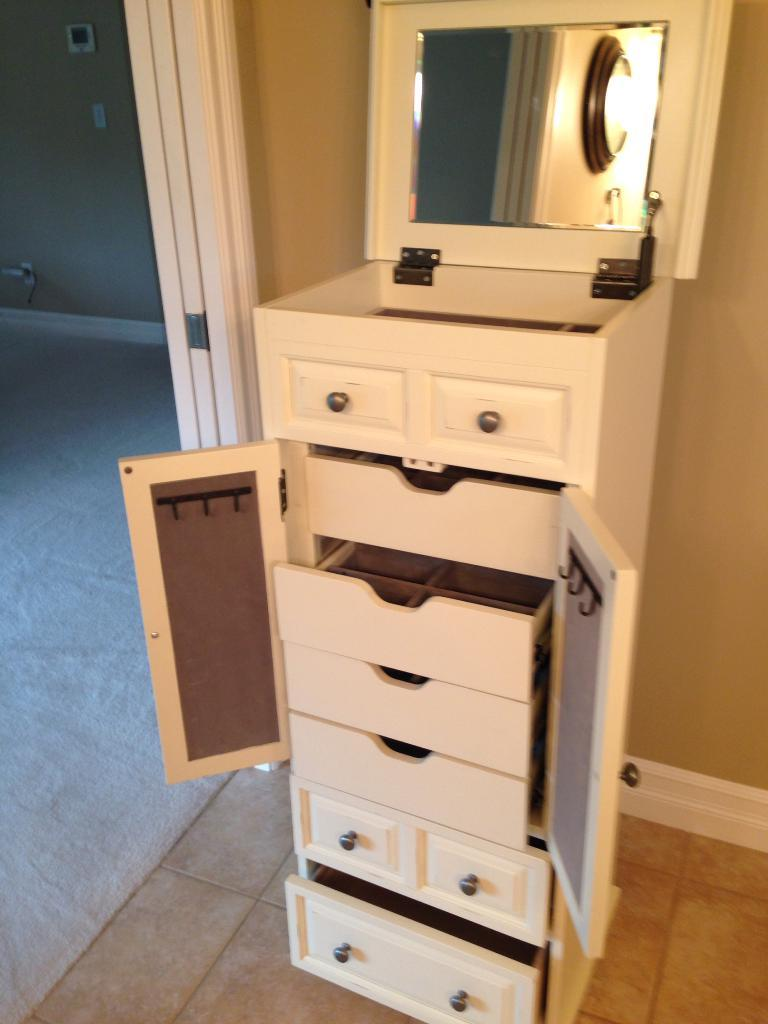cabinet_door: (130, 460, 286, 760), (295, 647, 520, 765), (288, 576, 522, 686), (299, 724, 520, 838), (314, 461, 560, 556), (568, 524, 622, 912), (306, 920, 512, 1021), (429, 381, 562, 461), (306, 795, 418, 885), (427, 839, 538, 926), (292, 364, 402, 437)
handle: (370, 650, 428, 696), (375, 726, 430, 772), (367, 579, 429, 613), (406, 476, 454, 506), (322, 384, 350, 418), (456, 868, 480, 898), (335, 940, 357, 971), (474, 404, 500, 428), (336, 826, 358, 852), (452, 998, 468, 1018)
